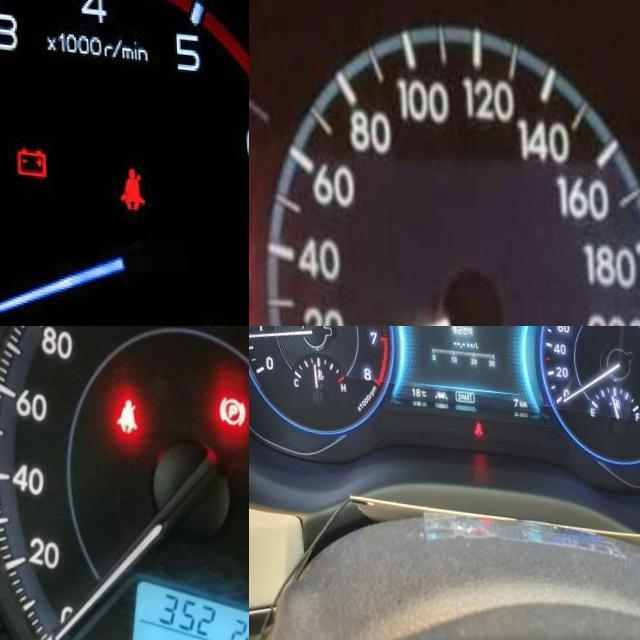LaneCenteringOff: (431, 381, 444, 392)
Seat Belt: (113, 389, 137, 431)
